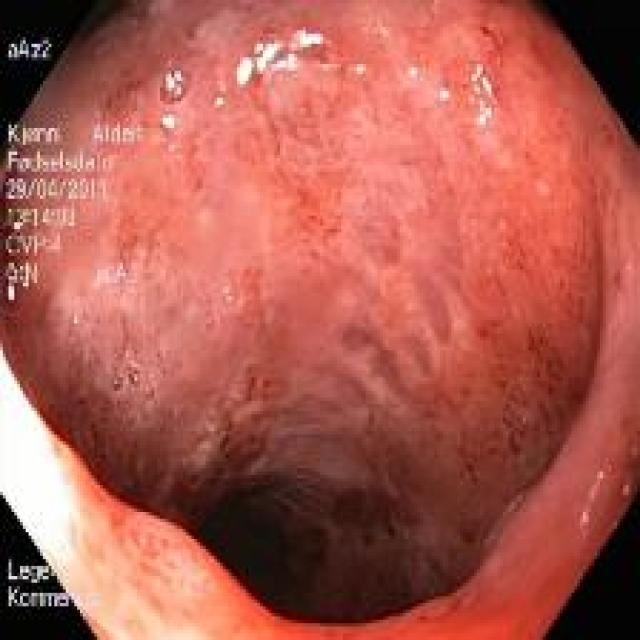ulcerative-colitis-grade-3: (0, 3, 619, 622)
